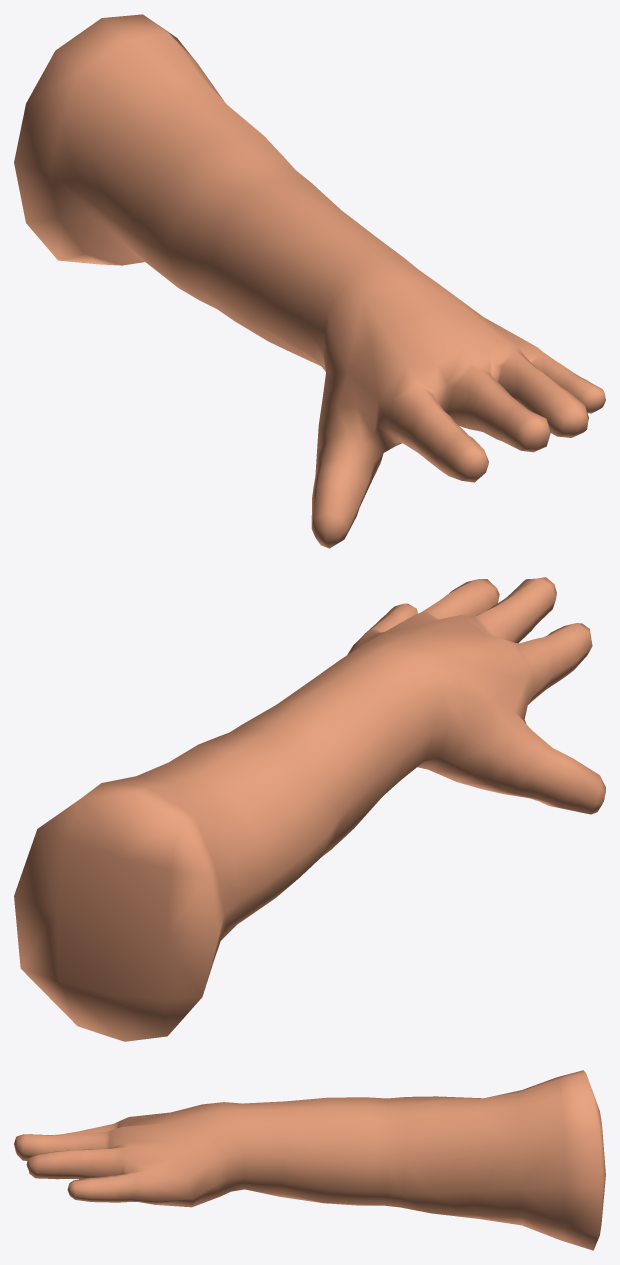
File: left_hand.fbx
The picture shows the model from 3 angles, top to bottom: view 1: azimuth 30°, elevation 25°; view 2: azimuth 150°, elevation 25°; view 3: azimuth 270°, elevation 25°; orthographic projection. The views are drawn at different scales.
Visible parts, largest first — view 1: left_hand; view 2: left_hand; view 3: left_hand.
Boxes of the visible parts, x1=… form: left_hand: x1=14, y1=14, x2=605, y2=548; left_hand: x1=14, y1=577, x2=605, y2=1041; left_hand: x1=14, y1=1070, x2=605, y2=1250.
Bounding box in the file's own units: 0.1507 × 0.1415 × 0.4584.
